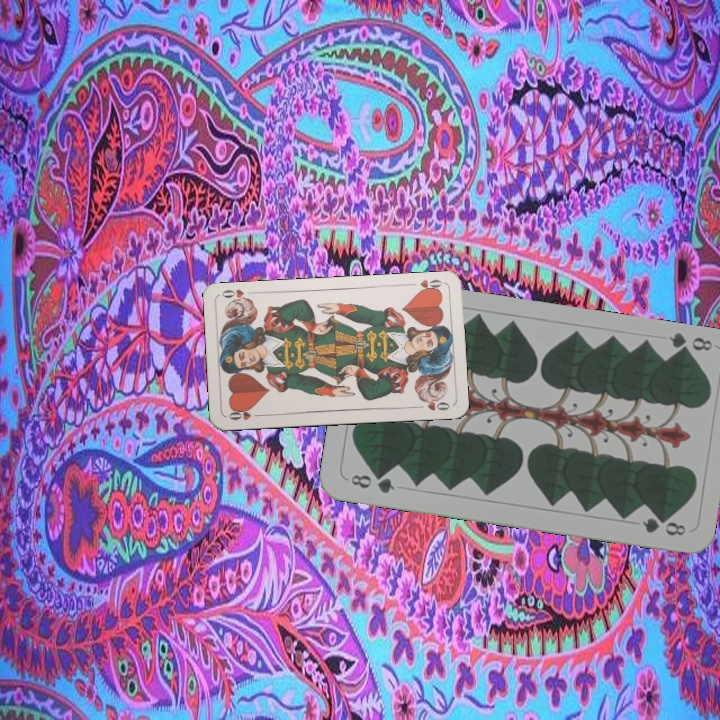G8: (665, 329, 715, 358), (346, 470, 397, 496)
HO: (406, 275, 446, 295), (224, 405, 264, 423)
